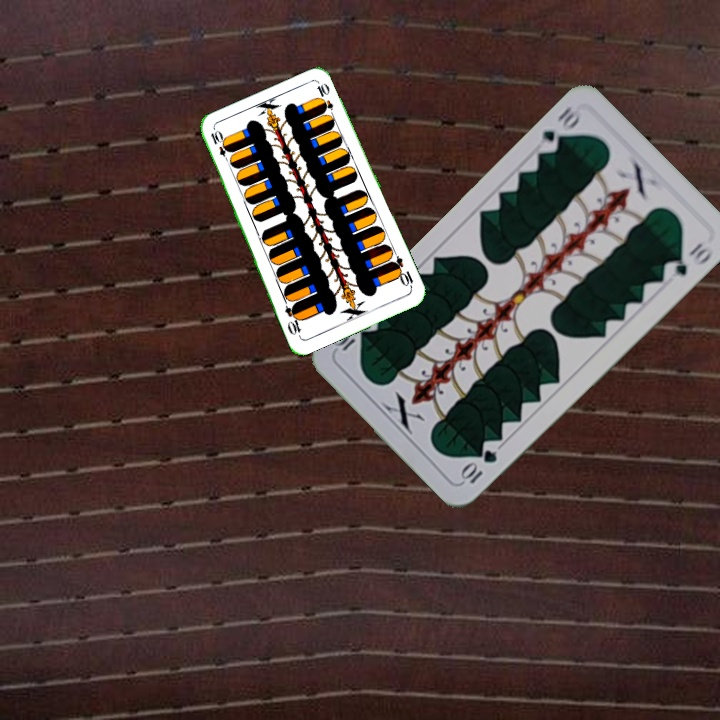E10: (388, 253, 416, 291), (207, 126, 233, 166)
G10: (537, 102, 585, 156), (457, 445, 500, 487)
